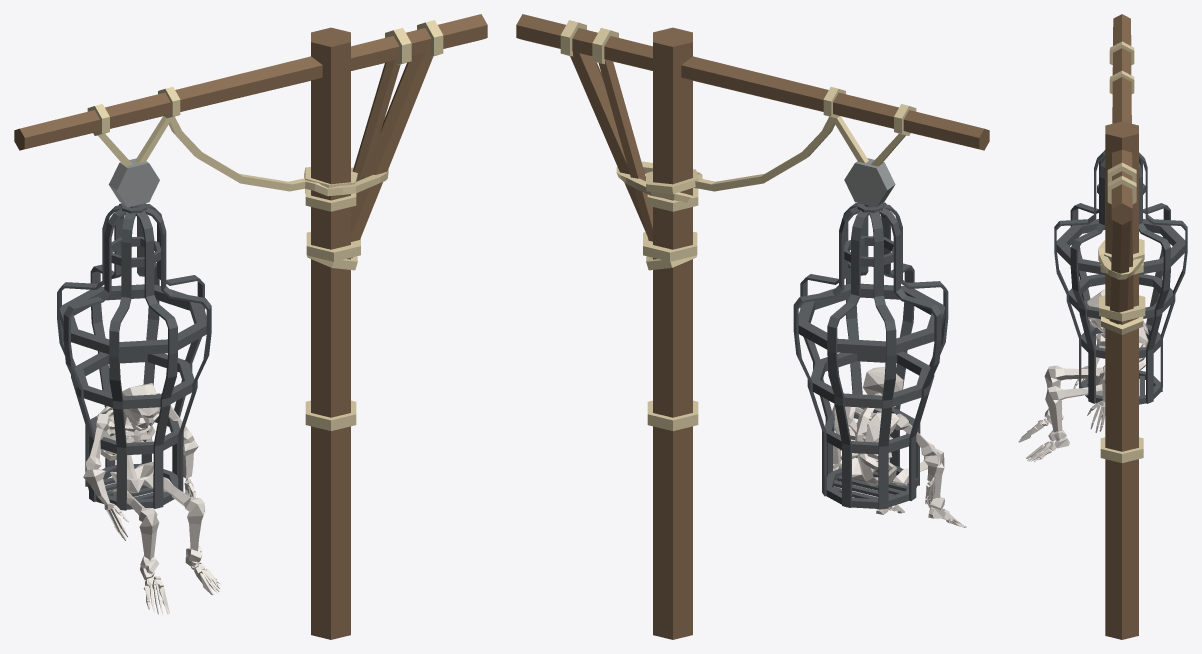
The model's file is Cell.fbx.
3 renders of one model, left to right at view 1: azimuth 30°, elevation 25°; view 2: azimuth 150°, elevation 25°; view 3: azimuth 270°, elevation 25°, orthographic. The views are drawn at different scales.
Visible parts, largest first — view 1: Cell, Skeleton_1; view 2: Cell, Skeleton_1; view 3: Cell, Skeleton_1.
Boxes of the visible parts, bbox=[...] form: Cell: bbox=[14, 14, 487, 639]; Skeleton_1: bbox=[83, 383, 220, 615]; Cell: bbox=[516, 14, 989, 639]; Skeleton_1: bbox=[824, 366, 966, 527]; Cell: bbox=[1054, 14, 1187, 639]; Skeleton_1: bbox=[1018, 289, 1148, 462].
Size of the model in its own units: 234 by 287 by 87.7.
1 material, 1 textured.
